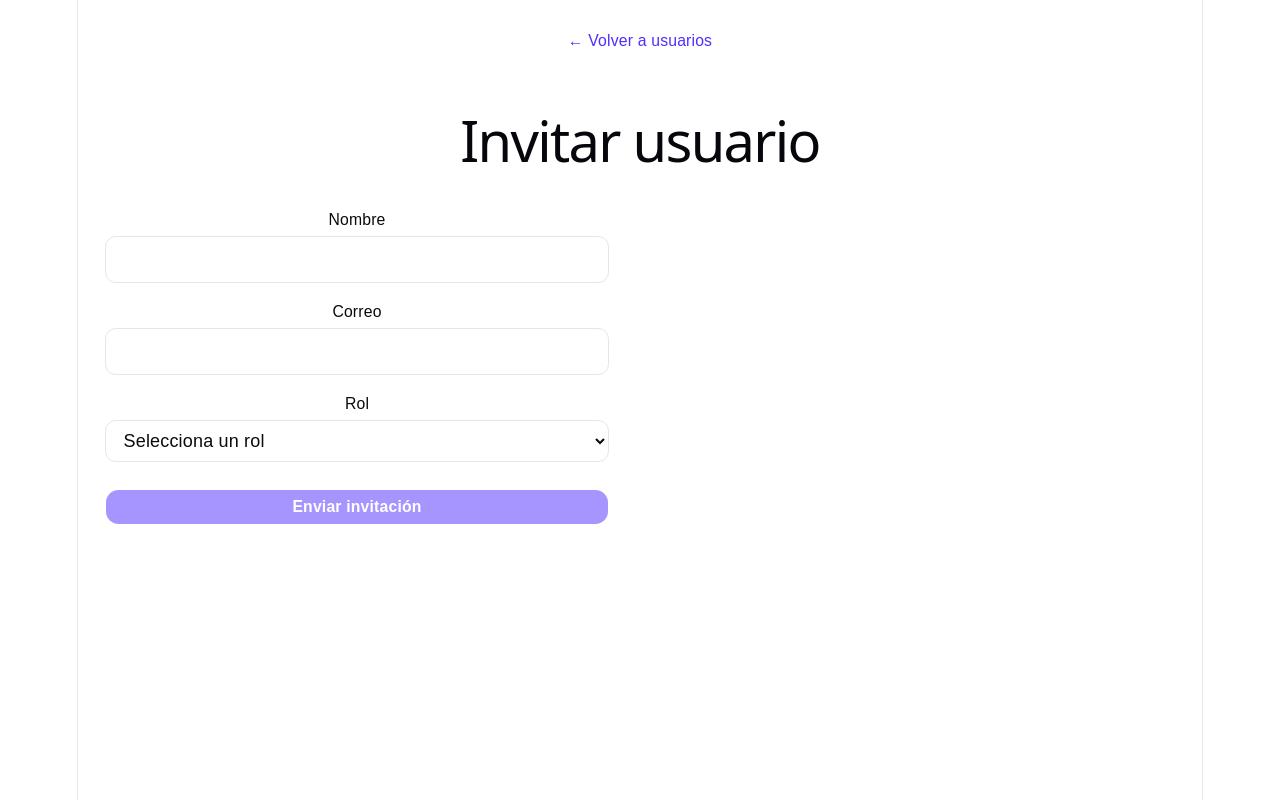
Test: InvitarUsuarioPage — validación de experiencia › exige nombre, correo válido y rol antes de habilitar enviar
The image size is (1280, 800).
Expected: the button "Enviar invitación" is disabled, [105,489,609,525]
Type "Ana" into the field labelled "Nombre". click: (357, 260)
box: [105,236,609,283]
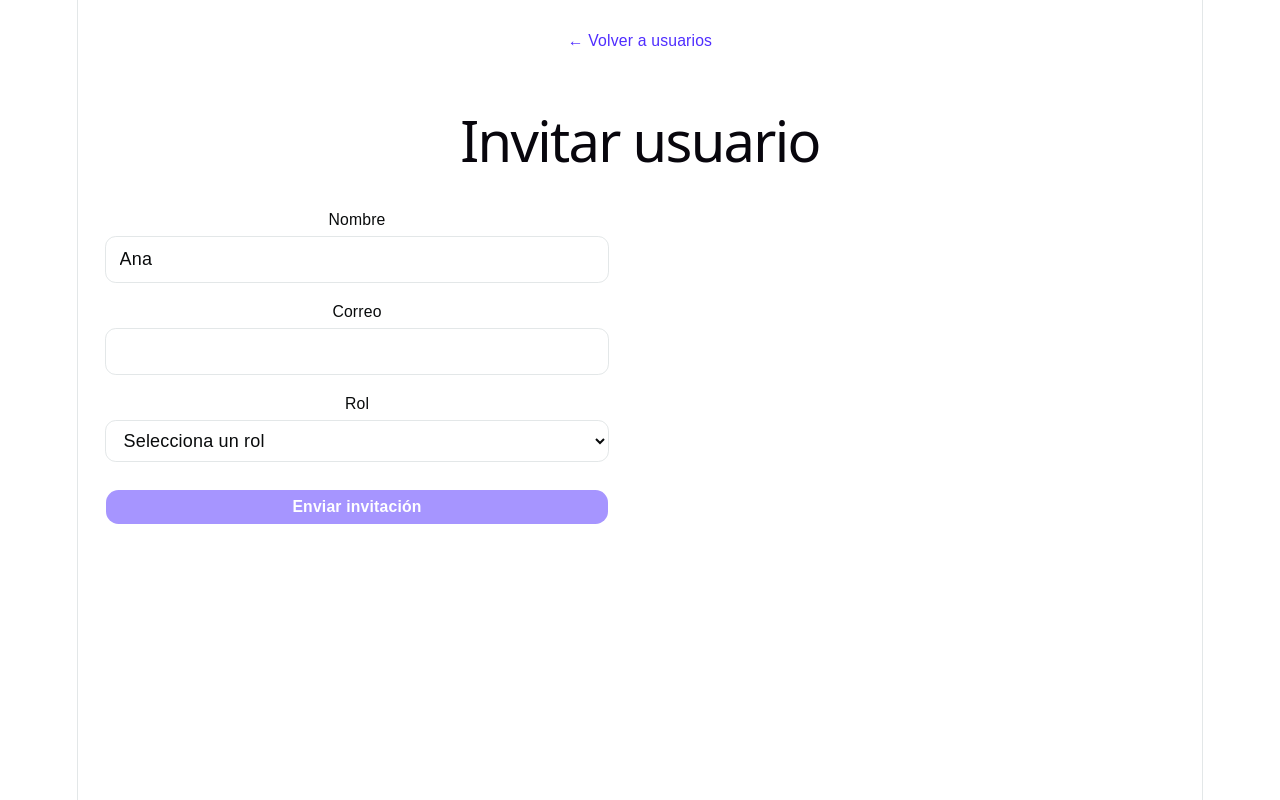
Type "no-es-correo" into the field labelled "Correo". click: (357, 352)
box: [105,328,609,375]
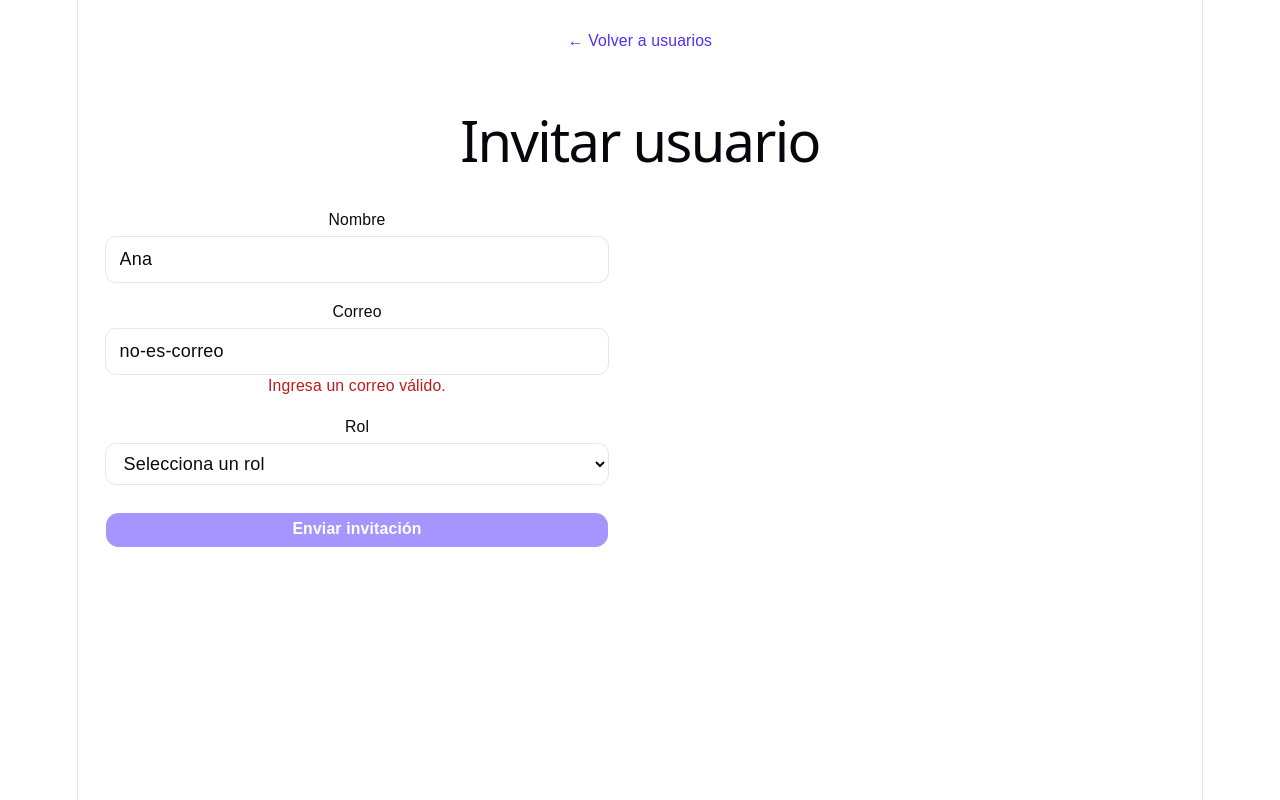
Expected: the button "Enviar invitación" is disabled, [105,512,609,548]
Now the text "Ingresa un correo válido." is shown, box [268,377,446,394]
Replace the text in the field labelled "Correo" with "ana@x.com". click: (357, 352)
box: [105,328,609,375]
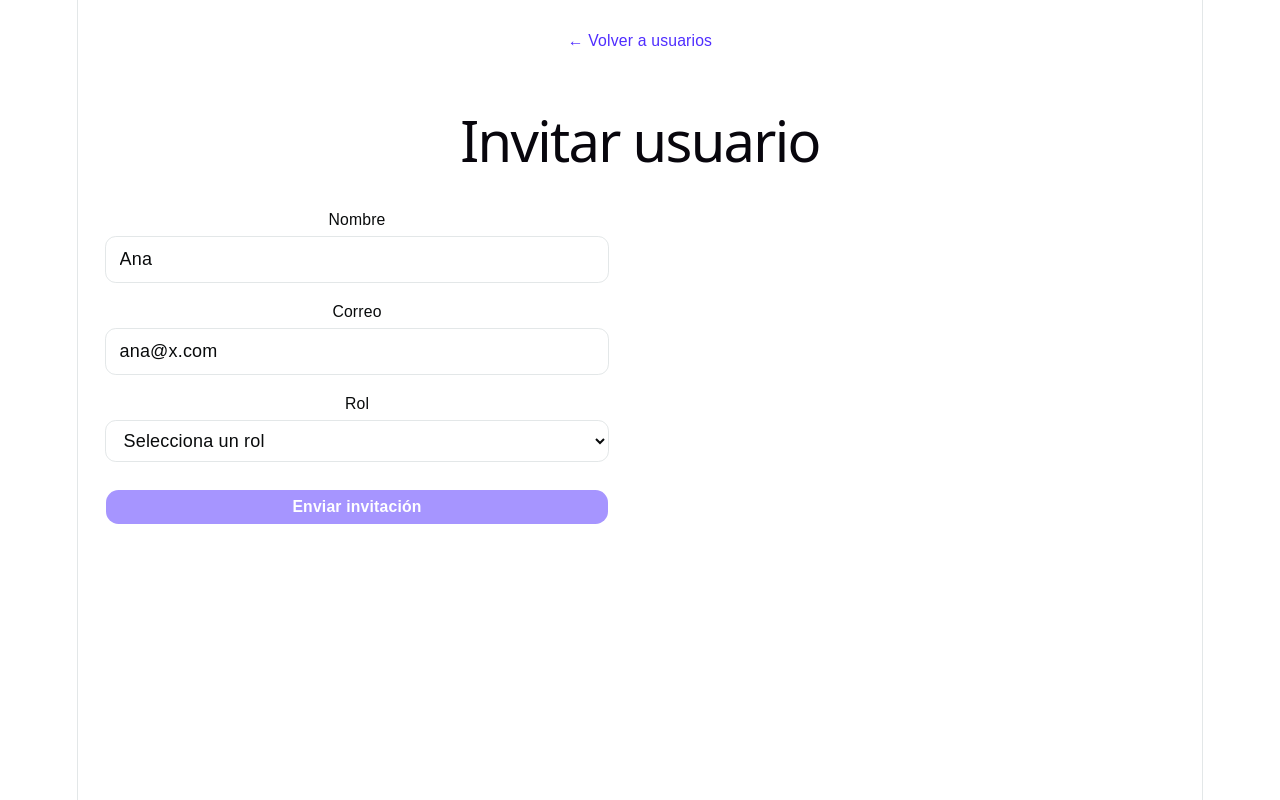
Expected: the button "Enviar invitación" is disabled, [105,489,609,525]
Now the text "Ingresa un correo válido." is gone
Select "Administrador" in the dropdown labelled "Rol". click: (357, 441)
box: [105,420,609,462]
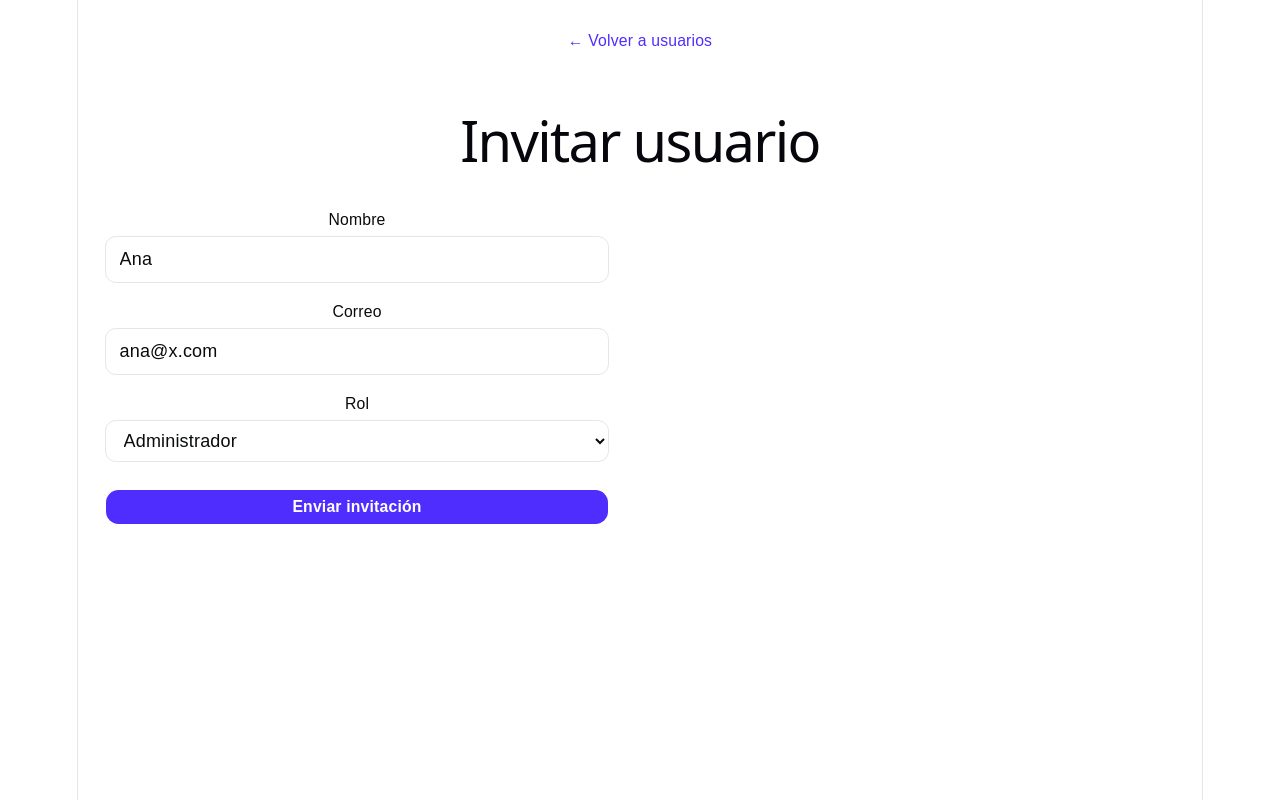
Now the button "Enviar invitación" is enabled, box [105,489,609,525]
